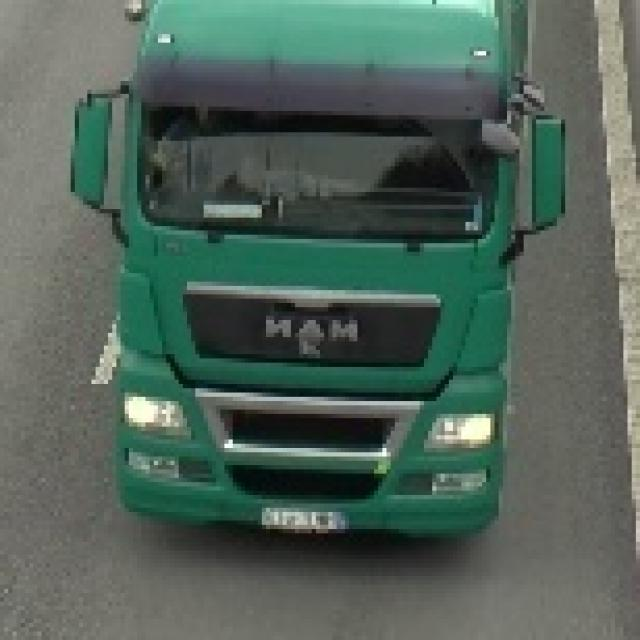truck: (51, 7, 603, 573)
